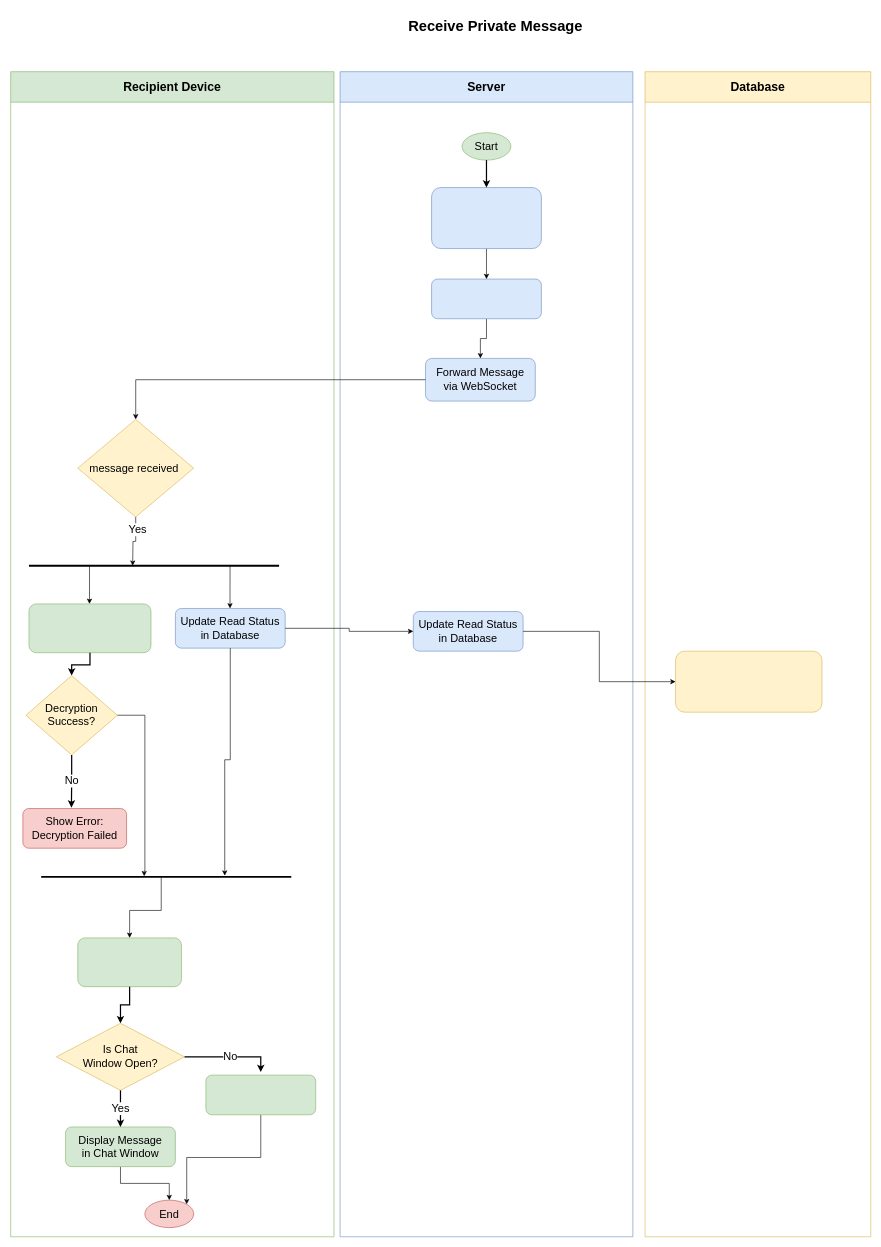
The diagram is 881 pixels wide and 1247 high, and some of its shapes have lost their labels. The centre of each missing label's shape, as x and y in pixels:
"Decrypt Message on Device (Private Key)" belongs at (x=89, y=628).
"If user is online" belongs at (x=486, y=298).
"Increase Unread Message Counter" belongs at (x=260, y=1095).
"New Encrypted Message Arrives and stored in database" belongs at (x=486, y=218).
"Update Conversation Instantly" belongs at (x=129, y=962).
"UPDATE messages SET is_read = TRUE WHERE message_id = ?" belongs at (x=748, y=681).
